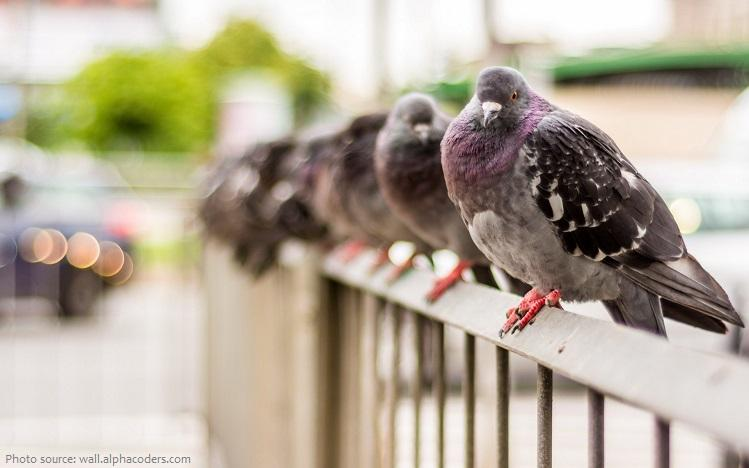Flying Rat: (440, 72, 710, 334), (380, 102, 472, 286)
